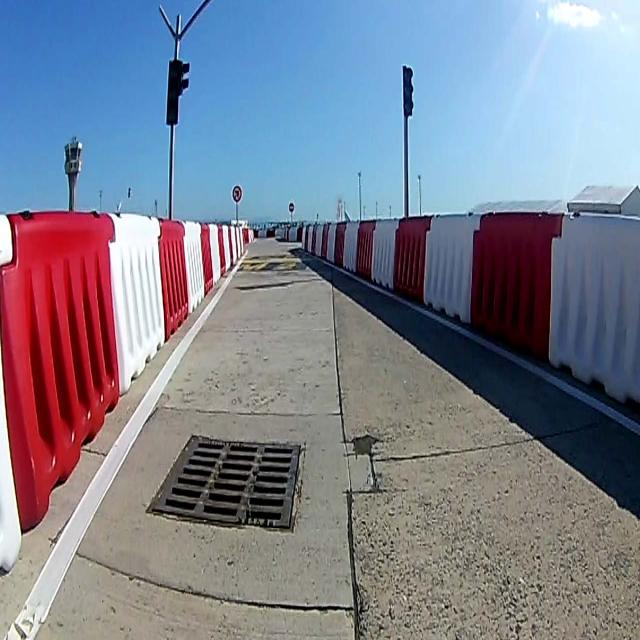soladonulmez: (232, 184, 242, 203)
